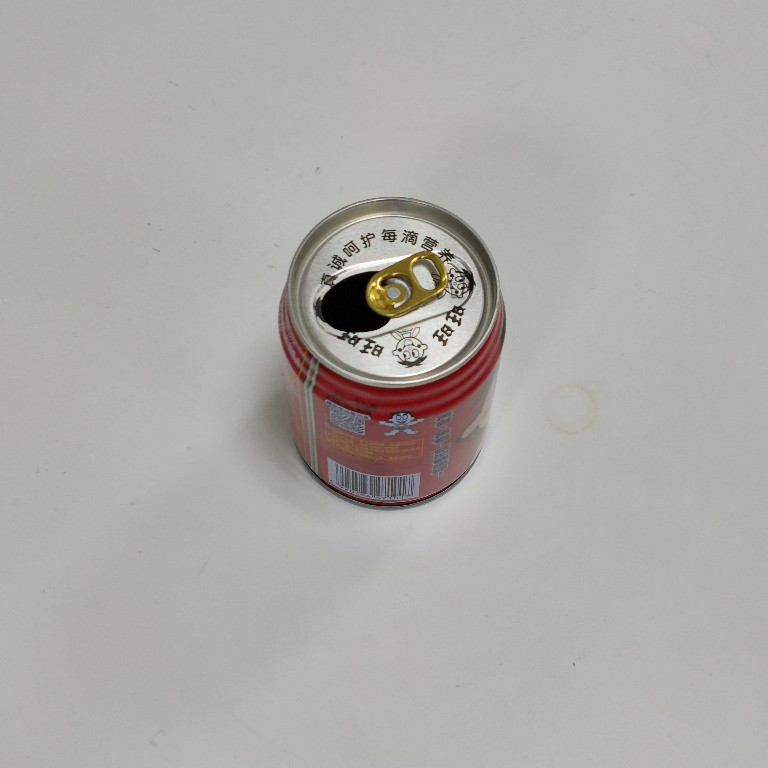can: (274, 191, 511, 517)
